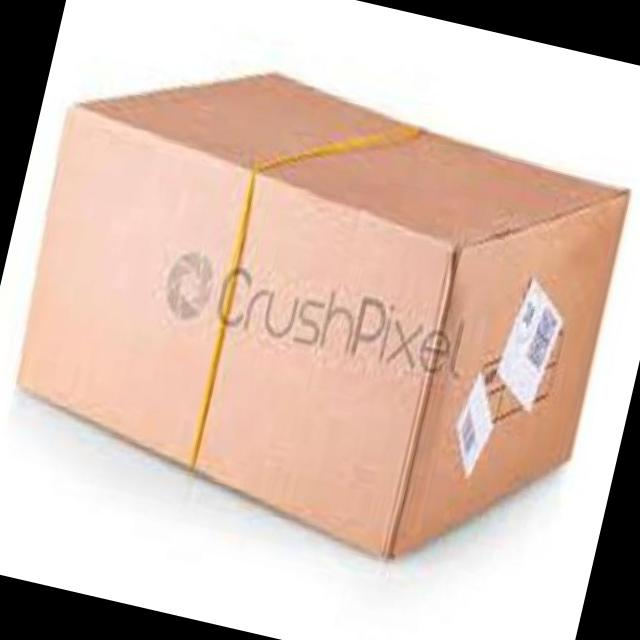box: (15, 69, 630, 563)
